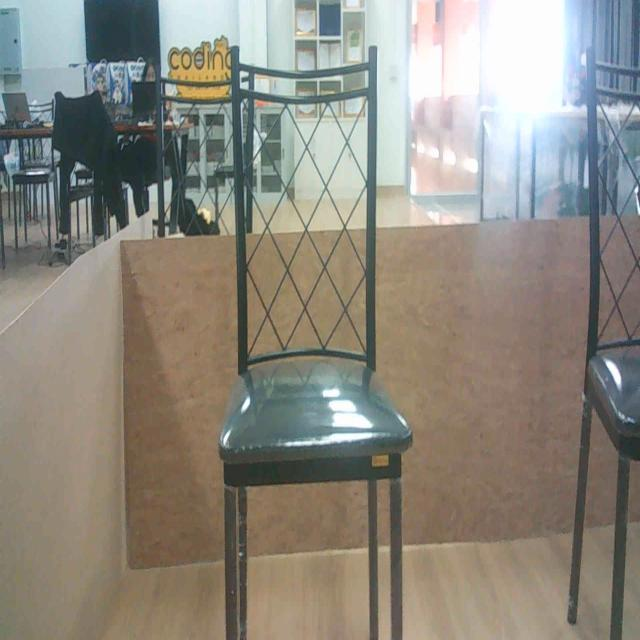emtpy: (199, 32, 417, 640), (562, 52, 640, 640)
